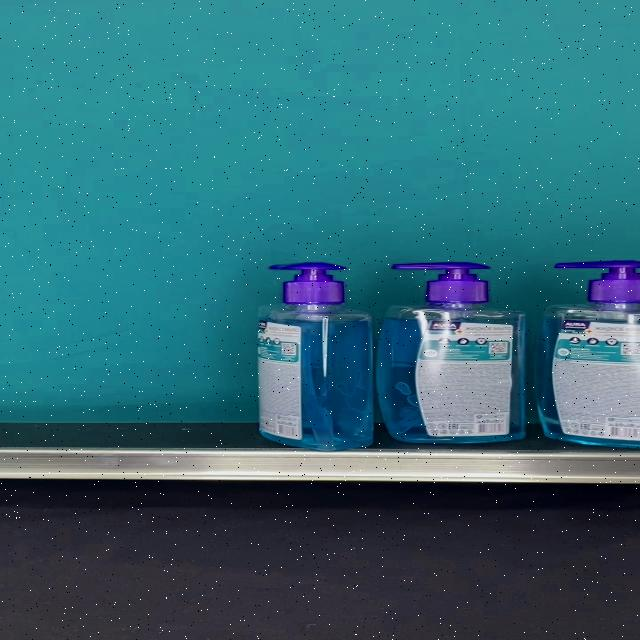Bottle: (374, 261, 525, 444), (257, 262, 373, 451)
Cap: (392, 262, 490, 303), (268, 262, 346, 304)
